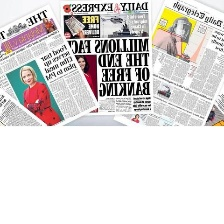news_paper: (112, 0, 224, 127), (0, 2, 102, 127), (59, 0, 156, 116), (0, 73, 51, 127), (199, 73, 224, 128)
